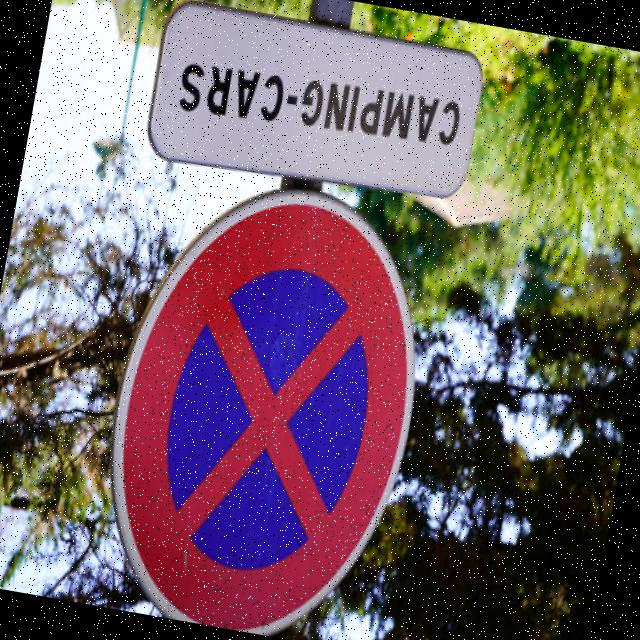no_parking: (69, 163, 450, 640)
